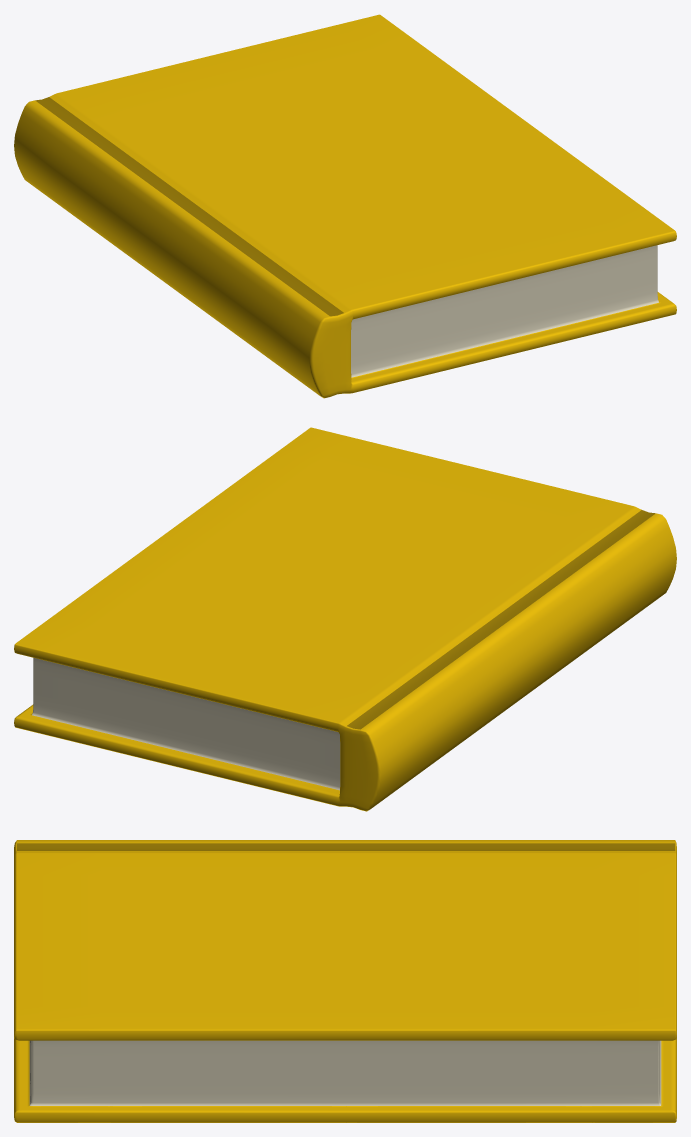
File: Single_Book.fbx
The picture shows the model from 3 angles, top to bottom: view 1: azimuth 30°, elevation 25°; view 2: azimuth 150°, elevation 25°; view 3: azimuth 270°, elevation 25°; orthographic projection. The views are drawn at different scales.
Parts seen in each view (by area): view 1: pCube1; view 2: pCube1; view 3: pCube1.
Part boxes in pixels (left/top/right/bottom): pCube1: left=14, top=14, right=676, bottom=398; pCube1: left=14, top=427, right=676, bottom=811; pCube1: left=14, top=840, right=676, bottom=1122.
Size of the model in its own units: 6.45 by 1.41 by 9.05.
